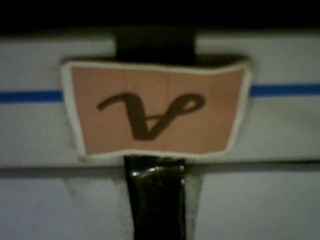A: (72, 68, 230, 154)
